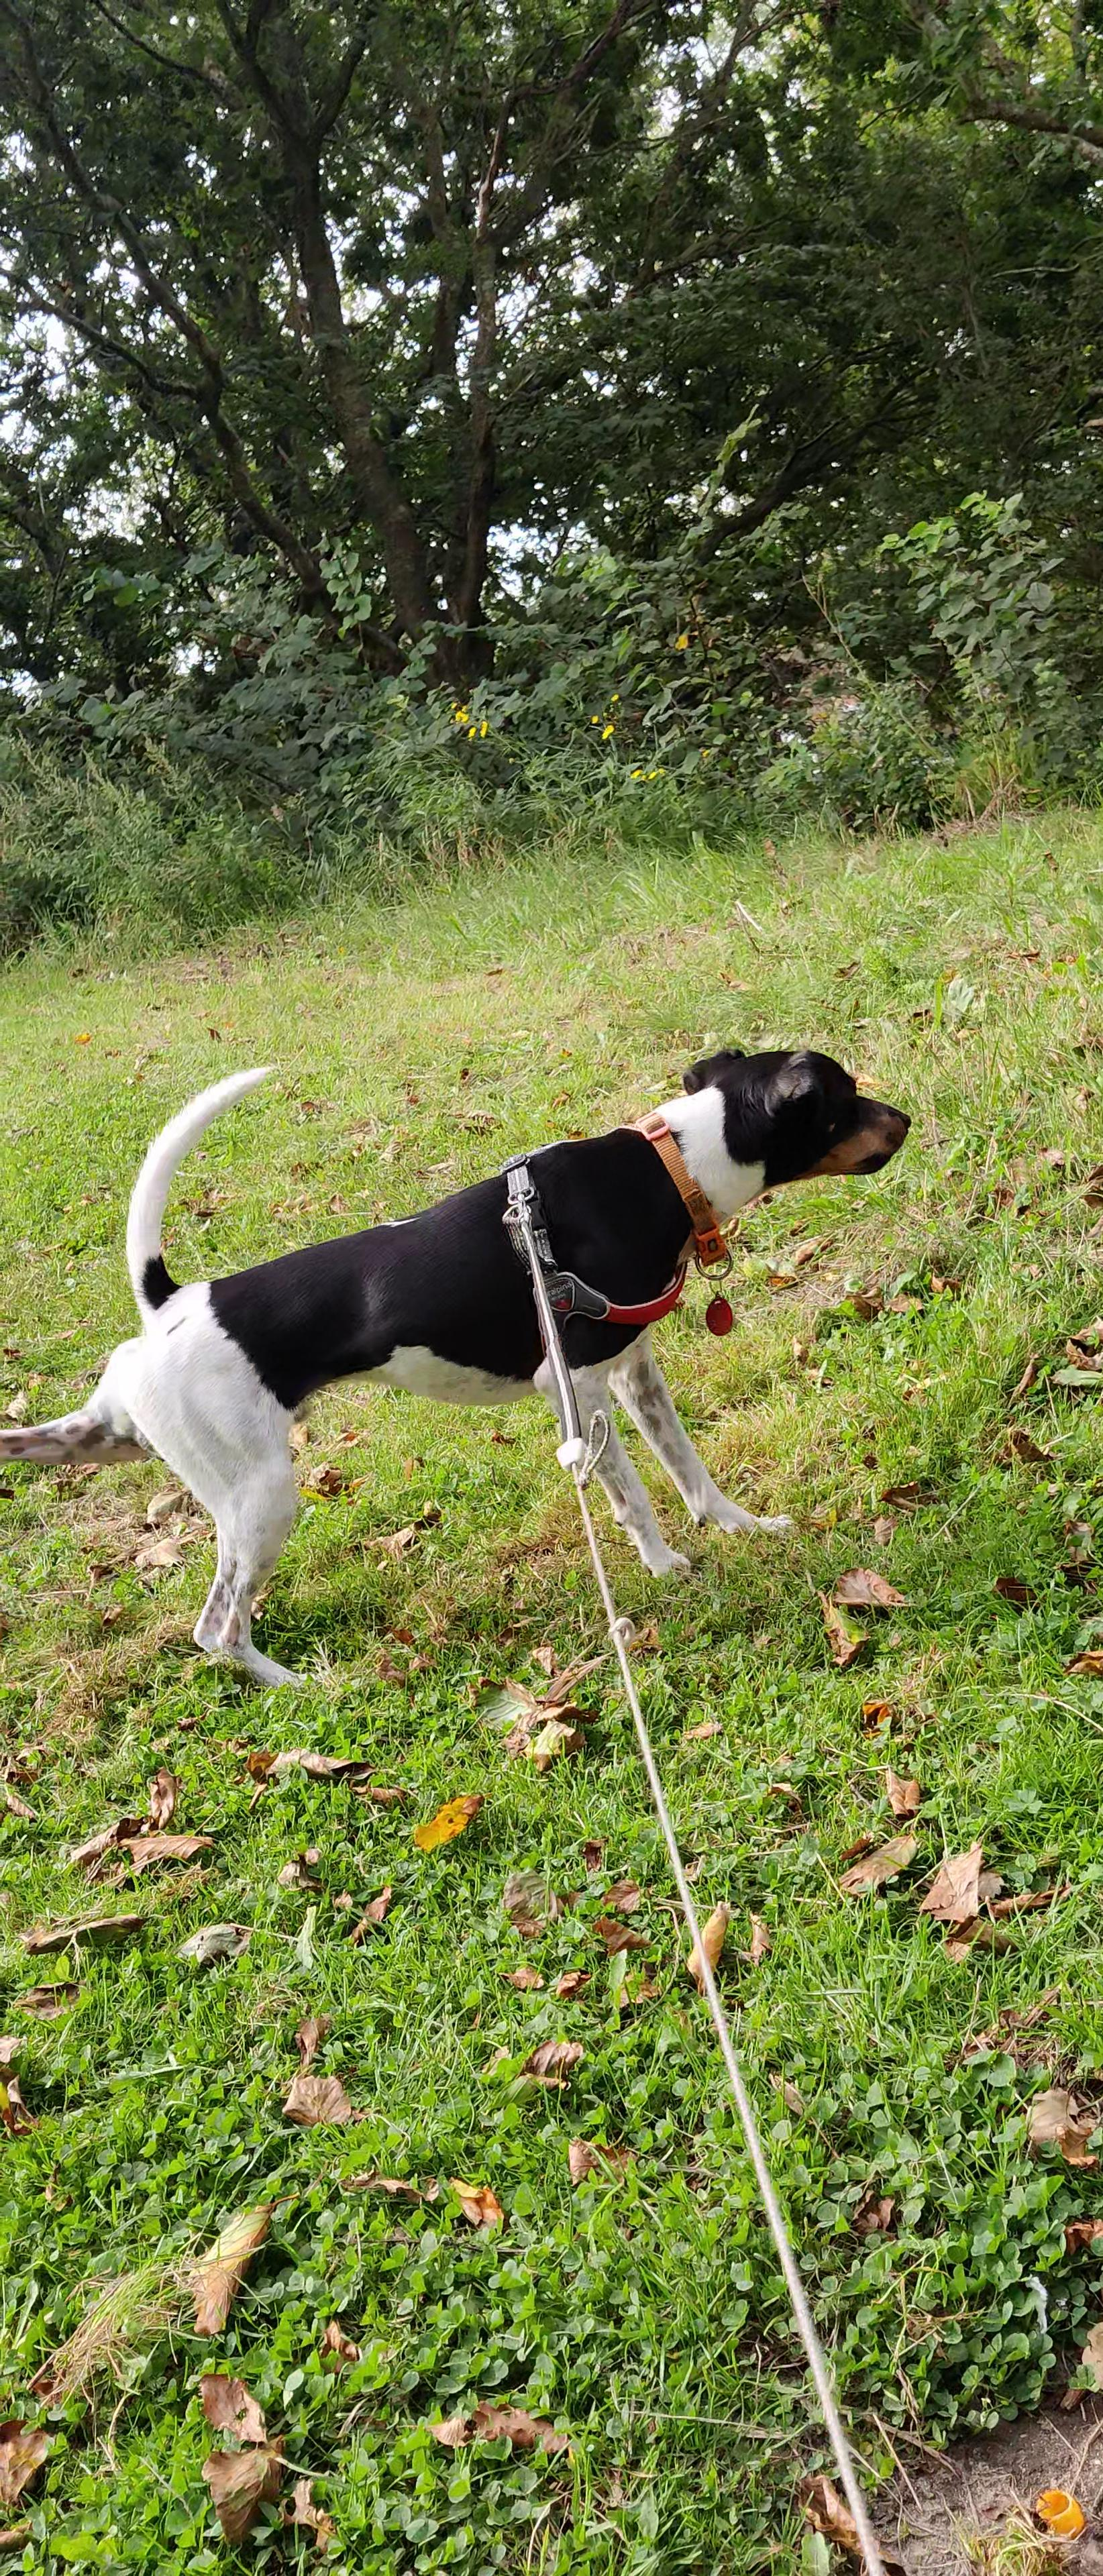Dog: (0, 1020, 932, 1707)
